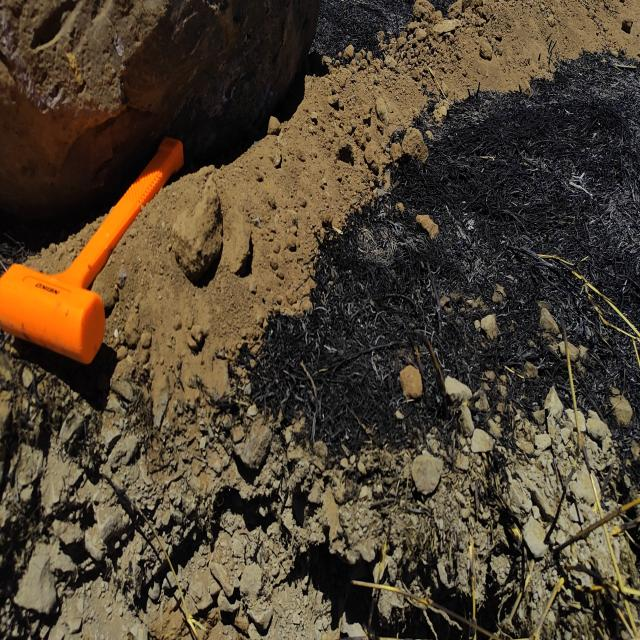Orange_hammer: (1, 134, 184, 366)
